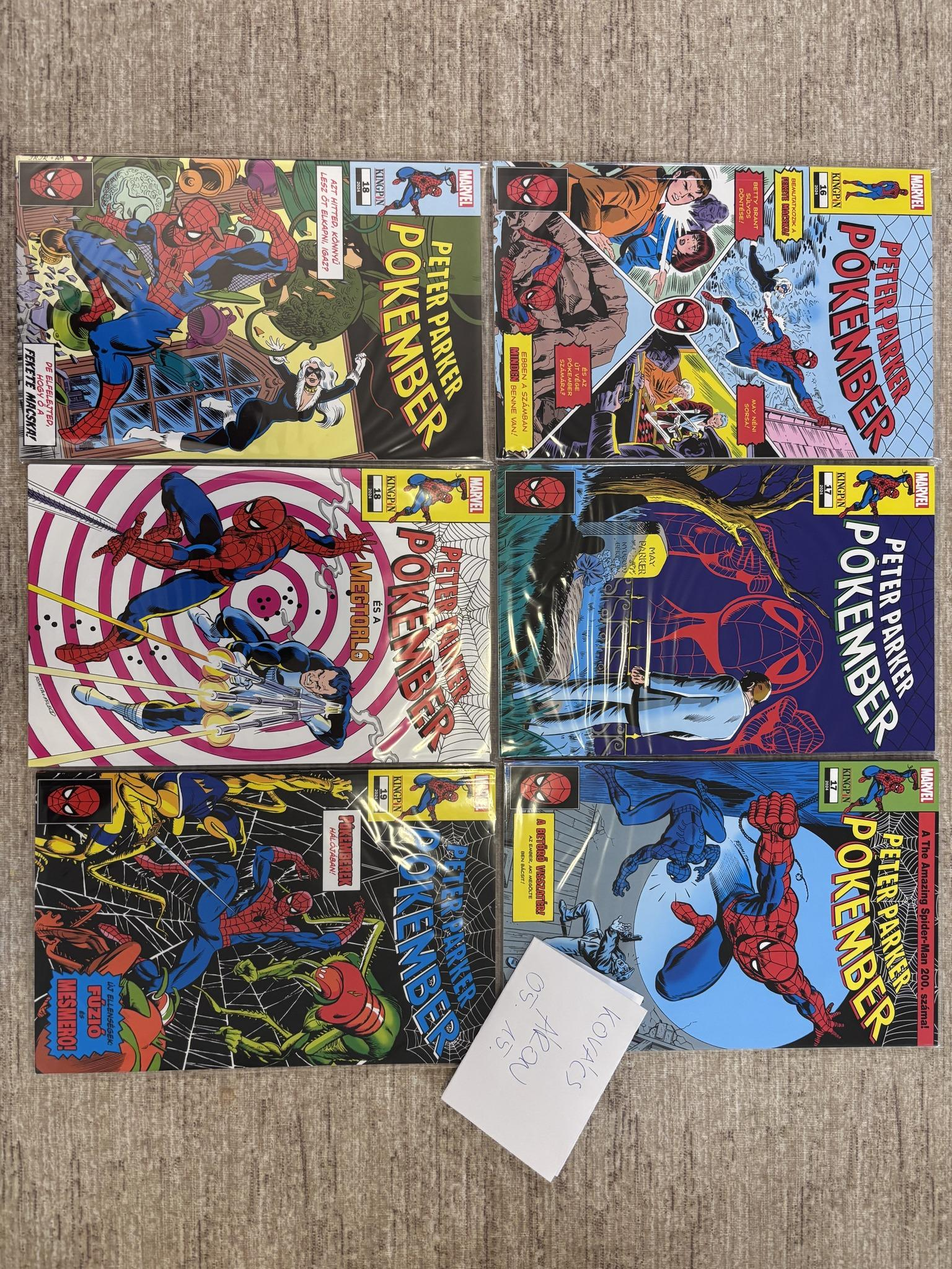comic: (30, 763, 500, 1072), (13, 155, 484, 462), (28, 463, 491, 768), (493, 163, 934, 461), (498, 460, 935, 758), (503, 756, 939, 1050)
